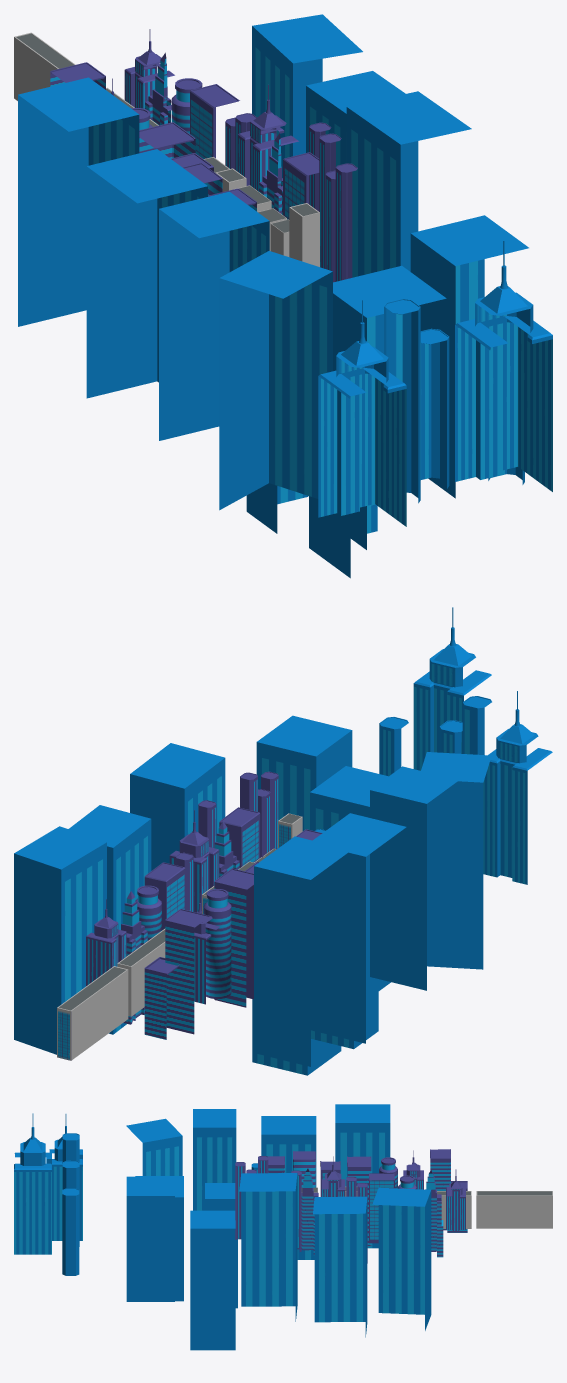
The model's file is TheFinalCity.fbx.
The picture shows the model from 3 angles, top to bottom: view 1: azimuth 30°, elevation 25°; view 2: azimuth 150°, elevation 25°; view 3: azimuth 270°, elevation 25°; orthographic projection. The views are drawn at different scales.
Parts seen in each view (by area): view 1: Cube.11, BGBuildings.1, BGBuildings.2, BGBuildings, Cube.8, Cube.5, SideBuildings.15, mainPlatform.1, Cube.7, SideBuildings.21, SideBuildings.12, mainPlatform.9 (+11 smaller); view 2: Cube.11, BGBuildings.2, Cube.8, SideBuildings.1, BGBuildings.1, mainPlatform.1, BGBuildings, Cube.5, SideBuildings.4, SideBuildings.5, SideBuildings.9, SideBuildings.15 (+16 smaller); view 3: Cube.11, Cube.7, Cube.8, BGBuildings.1, mainPlatform.1, BGBuildings, BGBuildings.2, Cube.5, Cube.6, SideBuildings.16, SideBuildings.9, SideBuildings.10 (+9 smaller).
Boxes of the visible parts, x1,y1,x2,y2 form: Cube.11: (18, 14, 471, 510); BGBuildings.1: (455, 240, 552, 491); BGBuildings.2: (318, 300, 406, 526); BGBuildings: (384, 298, 524, 503); Cube.8: (410, 215, 528, 498); Cube.5: (322, 265, 446, 549); SideBuildings.15: (237, 84, 298, 191); mainPlatform.1: (14, 32, 75, 100); Cube.7: (309, 496, 377, 578); SideBuildings.21: (335, 163, 357, 281); SideBuildings.12: (190, 84, 239, 158); mainPlatform.9: (289, 203, 319, 266); Cube.11: (14, 743, 491, 1066); BGBuildings.2: (483, 691, 552, 884); Cube.8: (256, 715, 352, 830); SideBuildings.1: (144, 909, 209, 1039); BGBuildings.1: (413, 607, 491, 770); mainPlatform.1: (57, 966, 128, 1060); BGBuildings: (379, 696, 491, 776); Cube.5: (310, 766, 390, 990); SideBuildings.4: (203, 889, 231, 998); SideBuildings.5: (214, 868, 253, 1007); SideBuildings.9: (86, 899, 126, 986); SideBuildings.15: (169, 810, 219, 913); Cube.11: (126, 1104, 431, 1337); Cube.7: (190, 1210, 235, 1350); Cube.8: (126, 1176, 174, 1301); BGBuildings.1: (14, 1113, 51, 1254); mainPlatform.1: (476, 1191, 552, 1228); BGBuildings: (62, 1133, 79, 1275); BGBuildings.2: (49, 1114, 82, 1240); Cube.5: (135, 1176, 183, 1301); Cube.6: (205, 1183, 237, 1308); SideBuildings.16: (297, 1168, 318, 1255); SideBuildings.9: (446, 1169, 465, 1230); SideBuildings.10: (425, 1170, 443, 1257).
Size of the model in its own units: 193 by 237 by 486.
Materials: 1 (1 with a texture image).
